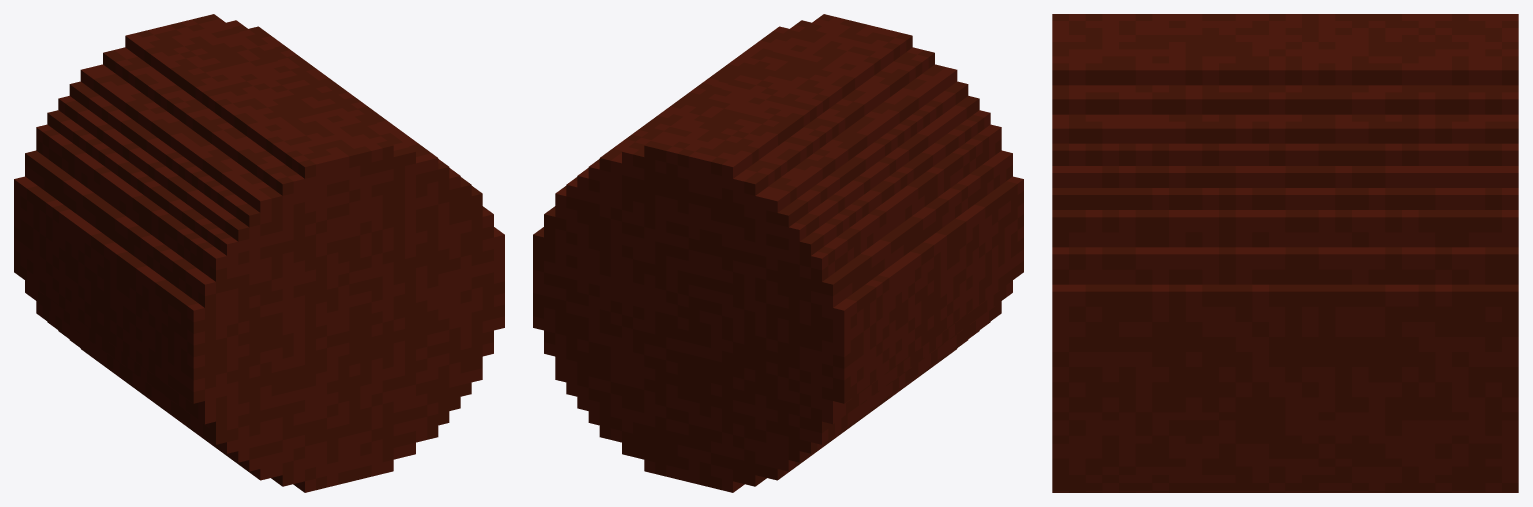
File: lvl1-11.obj
3 renders of one model, left to right at view 1: azimuth 30°, elevation 25°; view 2: azimuth 150°, elevation 25°; view 3: azimuth 270°, elevation 25°, orthographic. The views are drawn at different scales.
Bounding box in the file's own units: 2.8 × 2.8 × 2.8.
1 material, 1 textured.
